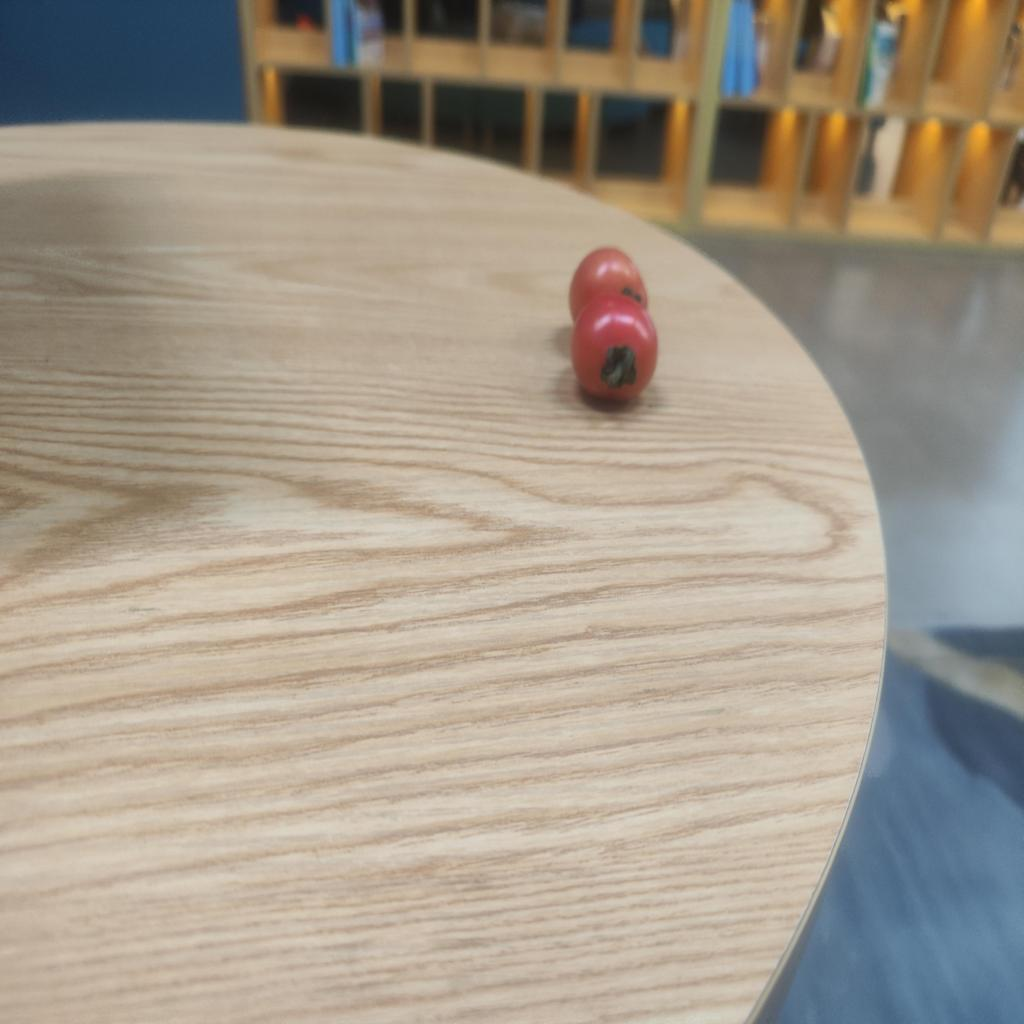tomato: (561, 292, 663, 412), (571, 244, 651, 326)
